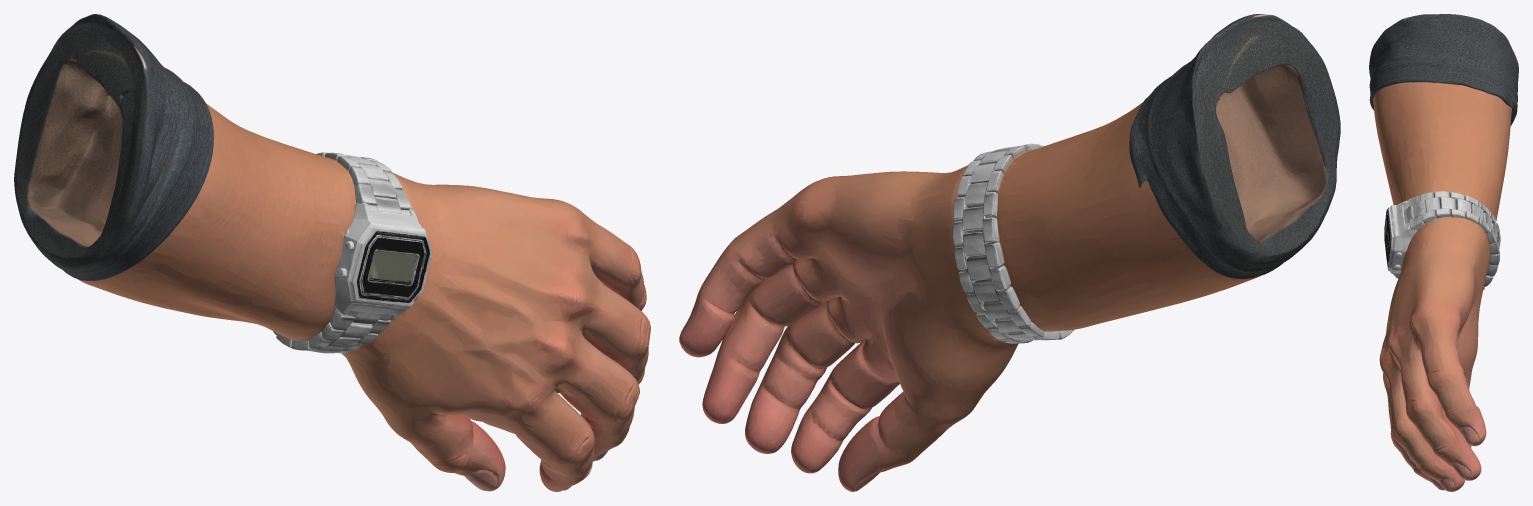
The model's file is arm.glb.
The picture shows the model from 3 angles, left to right: view 1: azimuth 30°, elevation 25°; view 2: azimuth 150°, elevation 25°; view 3: azimuth 270°, elevation 25°; orthographic projection. The views are drawn at different scales.
Visible parts, largest first — view 1: Mesh_0; view 2: Mesh_0; view 3: Mesh_0.
Part boxes in pixels (x1,y1,x2,y2): Mesh_0: (14, 14, 650, 491); Mesh_0: (679, 14, 1340, 491); Mesh_0: (1369, 14, 1518, 491).
Bounding box in the file's own units: 1.9 × 1.68 × 0.6592.
1 material, 1 textured.
